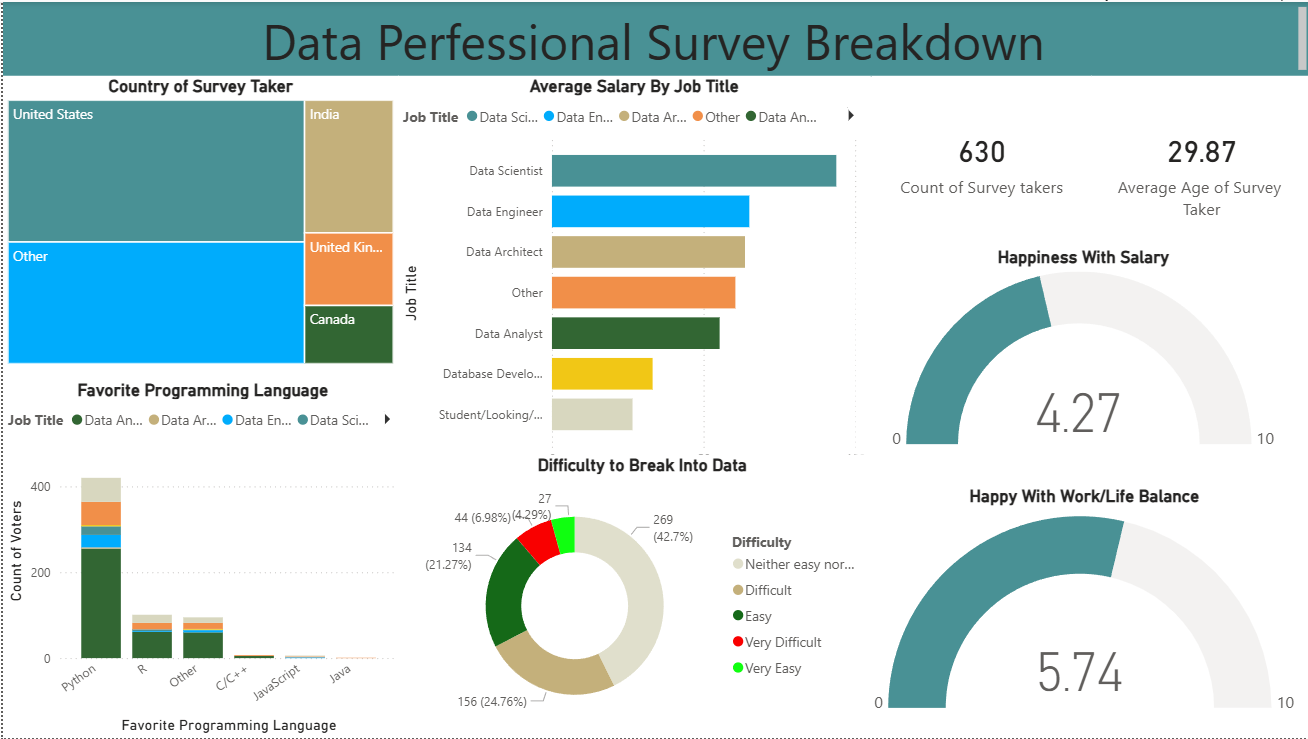

What the dashboard file says about the page in this screenshot:
{"tool":"powerbi","page":{"name":"Page 1","canvas":[1280,720],"ordinal":0},"visuals":[{"type":"textbox","box":[0,0,1280.3,72.7],"z":0},{"type":"card","fields":{"Values":["CountNonNull(Data Professional Survey.Unique ID)"]},"box":[849.4,72.7,215.4,167.4],"z":1000},{"type":"card","fields":{"Values":["Avg(Data Professional Survey.Q10 - Current Age)"]},"box":[1064.8,72.7,215.4,167.4],"z":2000},{"type":"barChart","title":"Average Salary By Job Title","fields":{"Category":["Data Professional Survey.Q1 - Which Title Best Fits your Current Role?.1"],"Y":["Avg(Data Professional Survey.Average Salary)"],"Series":["Data Professional Survey.Q1 - Which Title Best Fits your Current Role?.1"]},"box":[387,72.7,462.4,406.2],"z":3000},{"type":"columnChart","title":"Favorite Programming Language","fields":{"Category":["Data Professional Survey.Q5 - Favorite Programming Language.1"],"Y":["CountNonNull(Data Professional Survey.Unique ID)"],"Series":["Data Professional Survey.Q1 - Which Title Best Fits your Current Role?.1"]},"box":[0,369.1,391.1,351.3],"z":4000},{"type":"treemap","title":"Country of Survey Taker","fields":{"Group":["Data Professional Survey.Q11 - Which Country do you live in?.1"],"Values":["CountNonNull(Data Professional Survey.Q11 - Which Country do you live in?.1)"]},"box":[0,72.7,387,286.8],"z":5000},{"type":"gauge","title":"Happy With Work/Life Balance","fields":{"Y":["Avg(Data Professional Survey.Q6 - How Happy are you in your Current Position with the following? (Work/Life Balance))"],"MinValue":["Min(Data Professional Survey.Q6 - How Happy are you in your Current Position with the following? (Work/Life Balance))"],"MaxValue":["Max(Data Professional Survey.Q6 - How Happy are you in your Current Position with the following? (Work/Life Balance))1"]},"box":[842.5,473.4,430.9,233.3],"z":6000},{"type":"gauge","title":"Happiness With Salary","fields":{"Y":["Avg(Data Professional Survey.Q6 - How Happy are you in your Current Position with the following? (Salary))"],"MinValue":["Min(Data Professional Survey.Q6 - How Happy are you in your Current Position with the following? (Salary))"],"MaxValue":["Max(Data Professional Survey.Q6 - How Happy are you in your Current Position with the following? (Salary))"]},"box":[834.3,240.1,446,203.1],"z":7000},{"type":"donutChart","title":"Difficulty to Break Into Data","fields":{"Category":["Data Professional Survey.Q7 - How difficult was it for you to break into Data?"],"Y":["CountNonNull(Data Professional Survey.Q7 - How difficult was it for you to break into Data?)"]},"box":[400.7,443.2,448.7,277.2],"z":8000}]}

Visuals, with their boxes in screenshot pixels (x1, y1, x2, y2), scaled from the page's 1280x720 canvas onto the 1308x739 screenshot:
textbox: [0, 0, 1307, 75]
card - CountNonNull(Data Professional Survey.Unique ID): [868, 75, 1088, 246]
card - Avg(Data Professional Survey.Q10 - Current Age): [1088, 75, 1307, 246]
"Average Salary By Job Title" barChart: [395, 75, 868, 492]
"Favorite Programming Language" columnChart: [0, 379, 400, 738]
"Country of Survey Taker" treemap: [0, 75, 395, 369]
"Happy With Work/Life Balance" gauge: [861, 486, 1301, 725]
"Happiness With Salary" gauge: [853, 246, 1307, 455]
"Difficulty to Break Into Data" donutChart: [409, 455, 868, 738]
